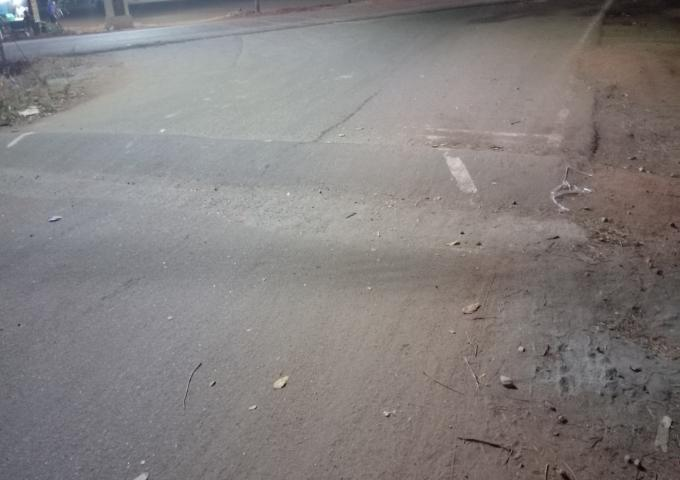speedbreaker: (0, 119, 568, 215)
